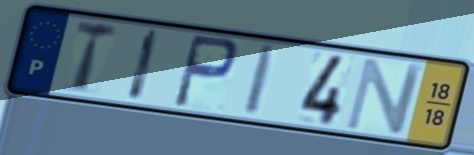4: (296, 51, 346, 129)
I: (124, 25, 165, 105), (240, 42, 282, 119)
N: (342, 56, 428, 136)
P: (169, 32, 241, 112)
T: (72, 18, 122, 96)
